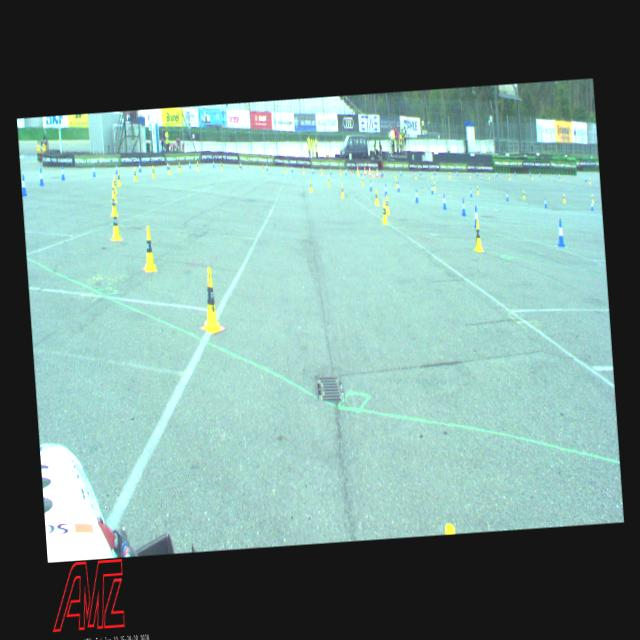blue_cone: (556, 218, 566, 247), (472, 206, 479, 228), (38, 167, 44, 186), (460, 198, 466, 216), (21, 175, 26, 196), (441, 193, 446, 210), (60, 164, 64, 180), (414, 188, 418, 202), (383, 182, 387, 195), (544, 196, 548, 208), (590, 200, 594, 211), (114, 163, 118, 174), (138, 162, 142, 172), (368, 180, 372, 190), (92, 164, 95, 176), (430, 183, 433, 194), (469, 186, 472, 197), (396, 181, 399, 191), (188, 160, 191, 168), (506, 190, 508, 201)
yellow_cone: (198, 266, 222, 333), (140, 226, 156, 272), (472, 219, 483, 252), (110, 207, 121, 240), (380, 200, 388, 224), (110, 193, 118, 216), (110, 181, 116, 202), (384, 194, 390, 214), (374, 188, 378, 205), (113, 175, 117, 192), (116, 170, 120, 186), (340, 182, 344, 198), (308, 178, 312, 192), (132, 166, 136, 180), (150, 165, 154, 178), (521, 189, 525, 199), (432, 180, 436, 190), (394, 178, 398, 187), (590, 194, 594, 202), (562, 192, 565, 202), (327, 175, 330, 185), (196, 160, 199, 170), (476, 184, 479, 194), (361, 176, 364, 185), (168, 162, 170, 175), (178, 162, 180, 172), (220, 161, 222, 170), (320, 167, 322, 175)
